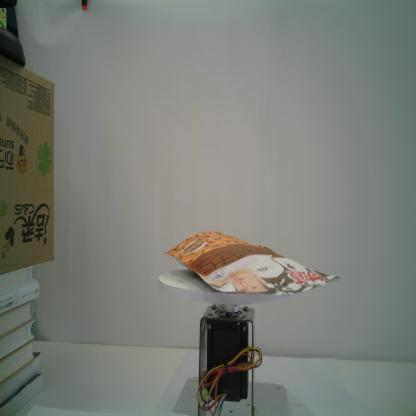Dried Fruit: (164, 231, 342, 297)
